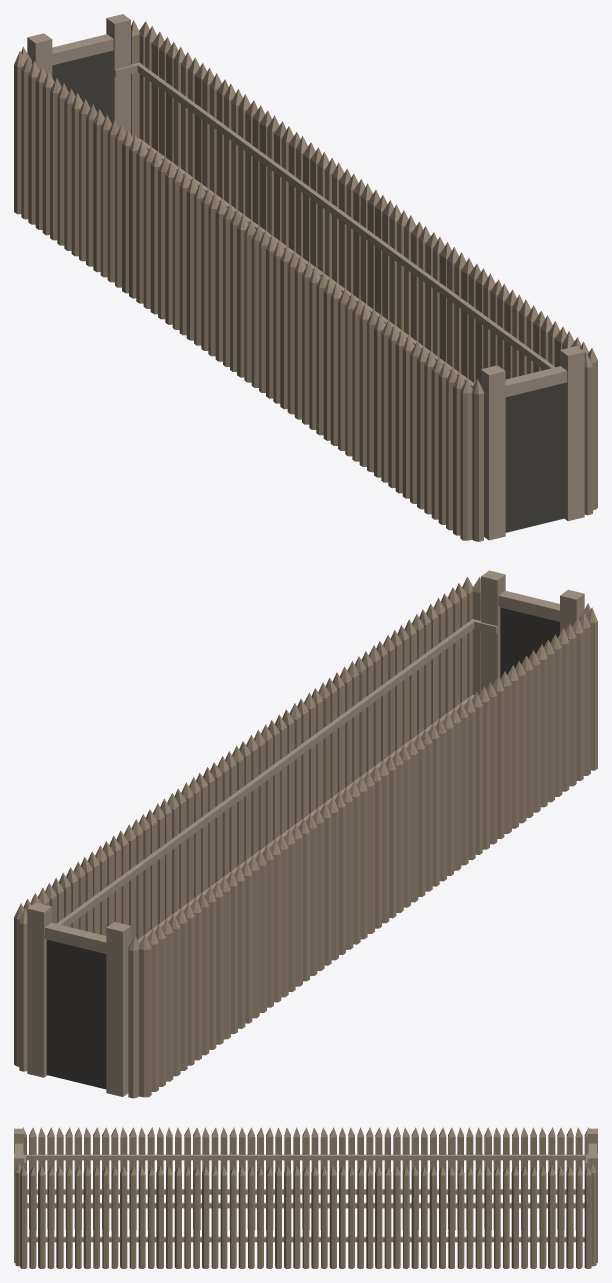
The model's file is first_fort_covered_way_terrace__first_fort_1803.glb.
3 views of the same model, one above another, from view 1: azimuth 30°, elevation 25°; view 2: azimuth 150°, elevation 25°; view 3: azimuth 270°, elevation 25° (orthographic). The views are drawn at different scales.
Parts seen in each view (by area): view 1: first_fort_covered_way_terrace__first_fort_1803; view 2: first_fort_covered_way_terrace__first_fort_1803; view 3: first_fort_covered_way_terrace__first_fort_1803.
Boxes of the visible parts, x1,y1,x2,y2 form: first_fort_covered_way_terrace__first_fort_1803: [14, 14, 597, 541]; first_fort_covered_way_terrace__first_fort_1803: [14, 570, 597, 1098]; first_fort_covered_way_terrace__first_fort_1803: [14, 1127, 597, 1268].
Size of the model in its own units: 3.25 by 3.8 by 19.24.
